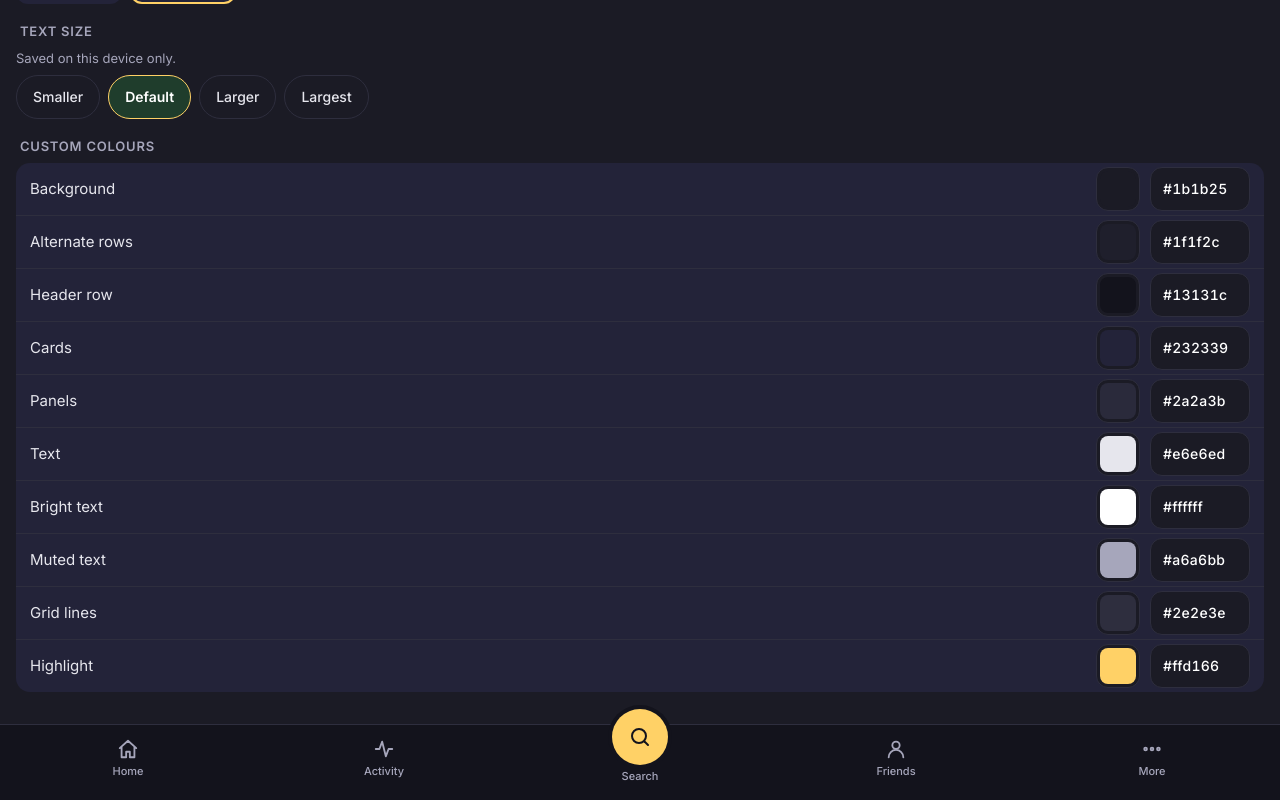
Test: Settings: Custom colours › editing Text to #333333 applies at once, warns, and saves on this device (not the account)
(page scrolled)
Step 1. Replace the text in the field named "Text hex" with "#333333" → (1200, 454), box [1150, 432, 1250, 476]
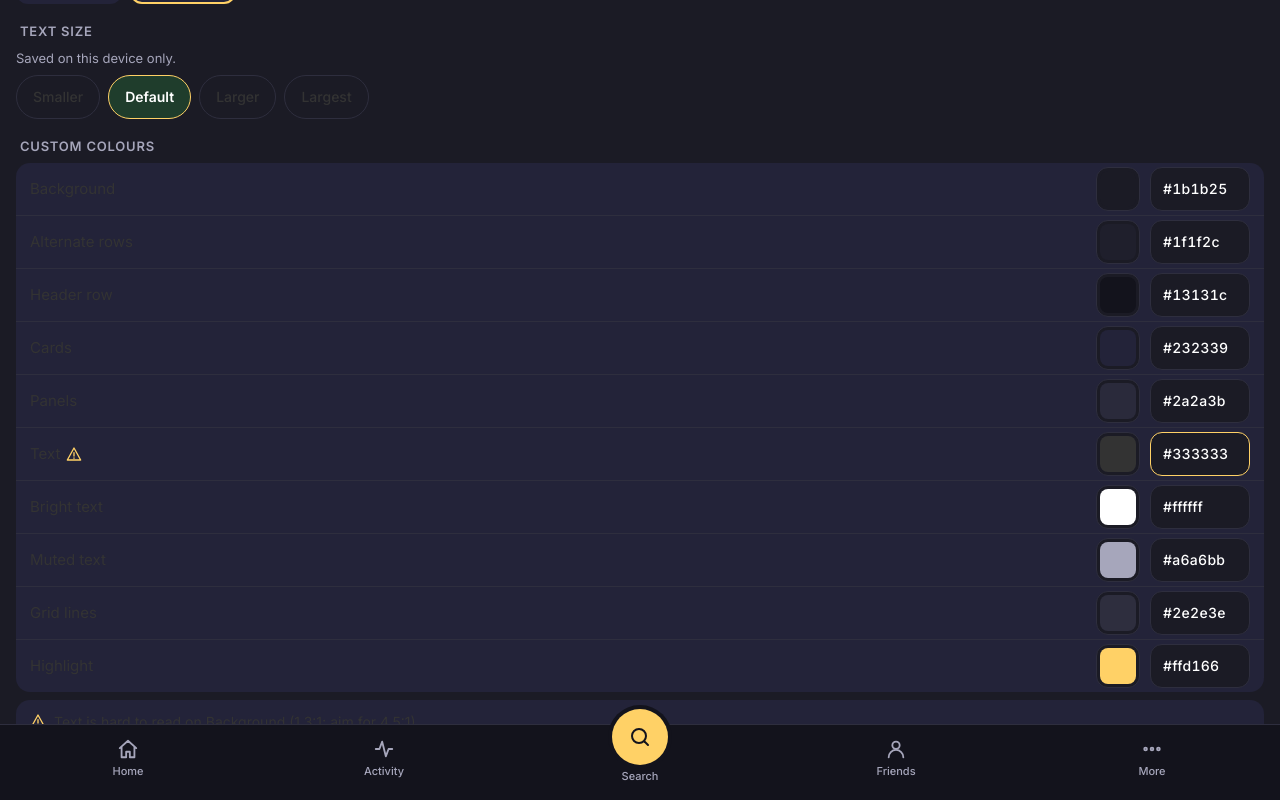
Expected: the text "Text is hard to read on Background (1.3:1; aim for 4.5:1)." is shown, [54, 712, 420, 732]
Expected: the colour field labelled "Text" holds "#333333", [1096, 432, 1140, 476]
